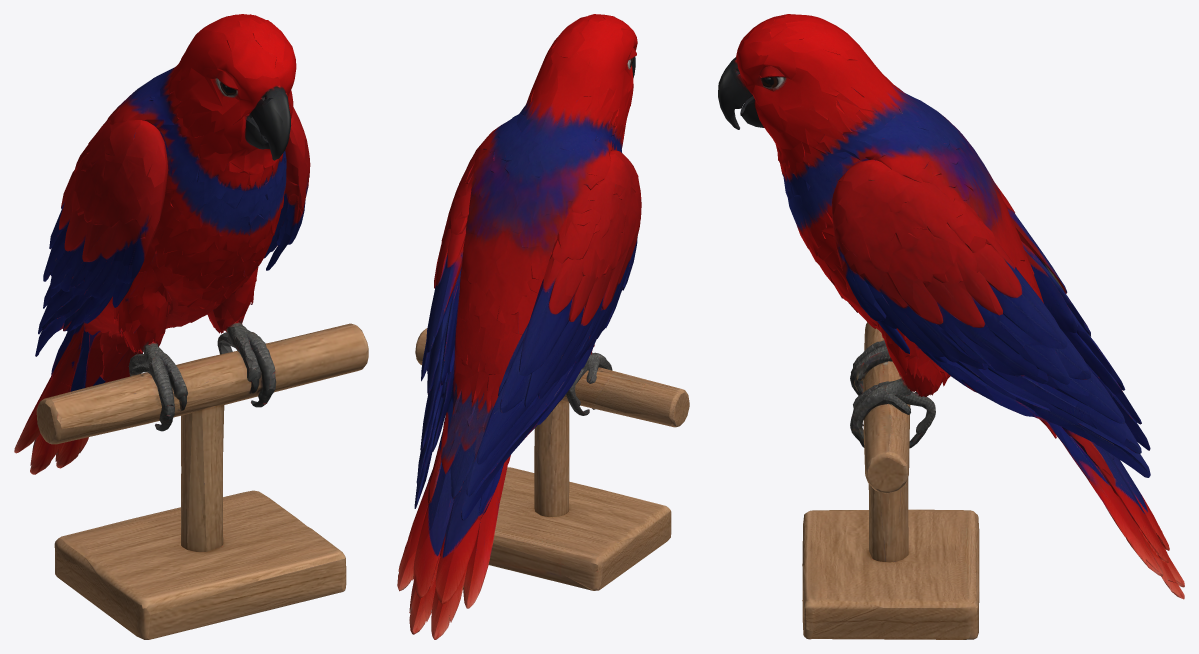
Rendered from jelly-sick.glb.
3 renders of one model, left to right at view 1: azimuth 30°, elevation 25°; view 2: azimuth 150°, elevation 25°; view 3: azimuth 270°, elevation 25°, orthographic. The views are drawn at different scales.
Bounding box in the file's own units: 1.04 × 1.9 × 1.4.
Materials: 1 (1 with a texture image).
